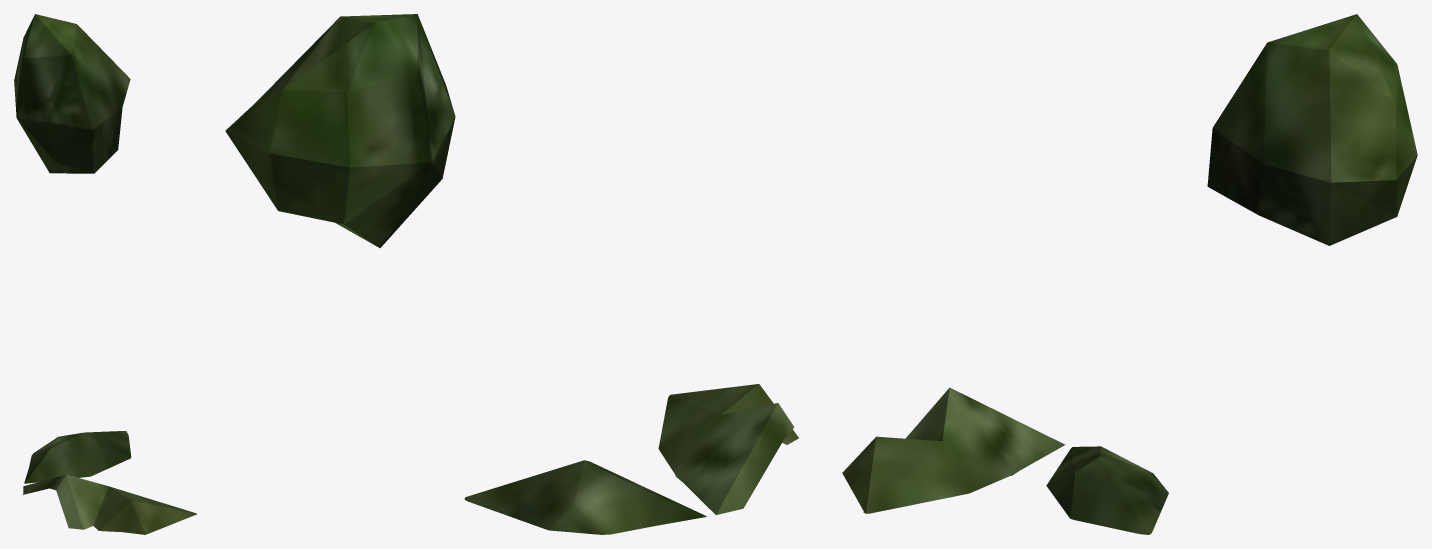
The picture shows the model from 3 angles, left to right: view 1: azimuth 30°, elevation 25°; view 2: azimuth 150°, elevation 25°; view 3: azimuth 270°, elevation 25°; orthographic projection. The views are drawn at different scales.
Size of the model in its own units: 0.1129 by 0.1867 by 0.1911.
1 material, 1 textured.
